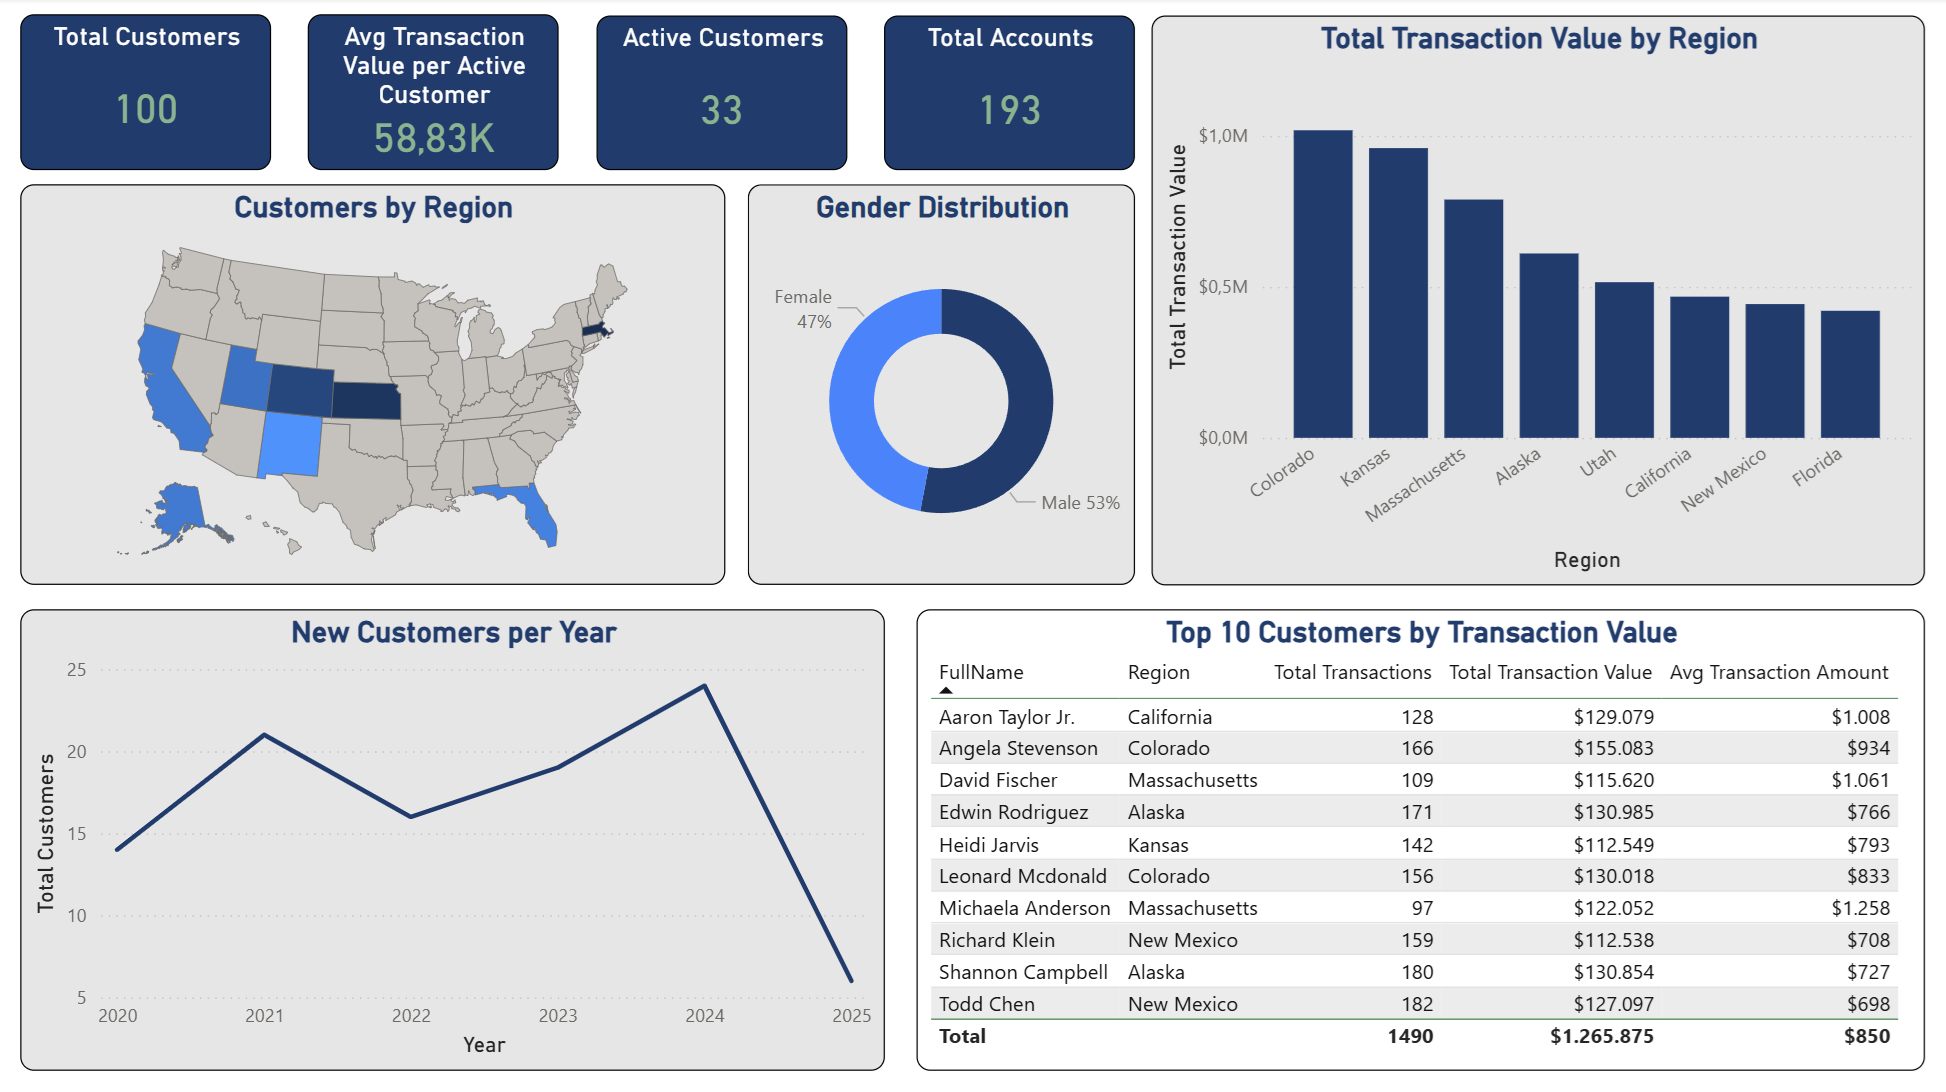

What the dashboard file says about the page in this screenshot:
{"tool":"powerbi","page":{"name":"Customer Overview","canvas":[1280,720],"ordinal":2},"visuals":[{"type":"shapeMap","title":"Customers by Region","fields":{"Value":["MeasureTable.Total Customers"],"Category":["DimCustomer.Region"]},"box":[14,122.4,463.1,263.6],"z":0},{"type":"donutChart","title":"Gender Distribution","fields":{"Category":["DimCustomer.Gender"],"Y":["MeasureTable.Total Customers"]},"box":[491.9,122.4,254.6,263.6],"z":1000},{"type":"card","title":"Total Customers","fields":{"Values":["MeasureTable.Total Customers"]},"box":[14,10.7,165,102.6],"z":2000},{"type":"card","title":"Active Customers","fields":{"Values":["MeasureTable.Active Customers"]},"box":[392.2,11.1,165.1,101.8],"z":3000},{"type":"card","title":"Total Accounts","fields":{"Values":["MeasureTable.Total Accounts"]},"box":[581.4,11.1,165.1,101.8],"z":4000},{"type":"card","title":"Avg Transaction Value per Active Customer","fields":{"Values":["MeasureTable.Avg Transaction Value per Active Customer"]},"box":[203.1,10.7,165.1,102.6],"z":5000},{"type":"lineChart","title":"New Customers per Year","fields":{"Category":["DimCustomer.JoinDate.Variation.Date Hierarchy.Year"],"Y":["MeasureTable.Total Customers"]},"box":[14,401.6,568.3,303],"z":6000},{"type":"clusteredColumnChart","fields":{"Category":["DimCustomer.Region"],"Y":["MeasureTable.Total Transaction Value"]},"box":[757.1,11.5,508.3,374.5],"z":7000},{"type":"tableEx","title":"Top 10 Customers by Transaction Value","fields":{"Values":["DimCustomer.FullName","DimCustomer.Region","MeasureTable.Total Transactions","MeasureTable.Total Transaction Value","MeasureTable.Avg Transaction Amount"]},"box":[602.7,401.6,662.7,303],"z":8000}]}

Visuals, with their boxes in screenshot pixels (x1, y1, x2, y2), scaled from the page's 1280x720 canvas onto the 1946x1092 screenshot:
"Customers by Region" shapeMap: 21:186:725:585
"Gender Distribution" donutChart: 748:186:1135:585
"Total Customers" card: 21:16:272:172
"Active Customers" card: 596:17:847:171
"Total Accounts" card: 884:17:1135:171
"Avg Transaction Value per Active Customer" card: 309:16:560:172
"New Customers per Year" lineChart: 21:609:885:1069
clusteredColumnChart - DimCustomer.Region x MeasureTable.Total Transaction Value: 1151:17:1924:585
"Top 10 Customers by Transaction Value" tableEx: 916:609:1924:1069
